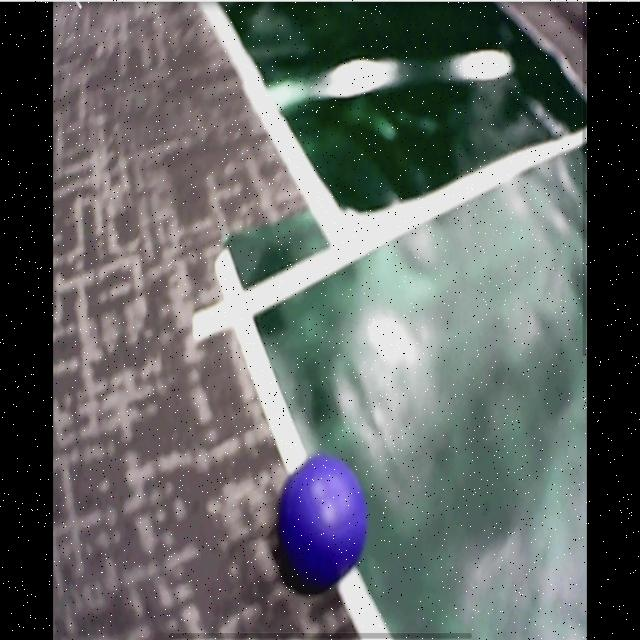ball: (278, 459, 367, 589)
